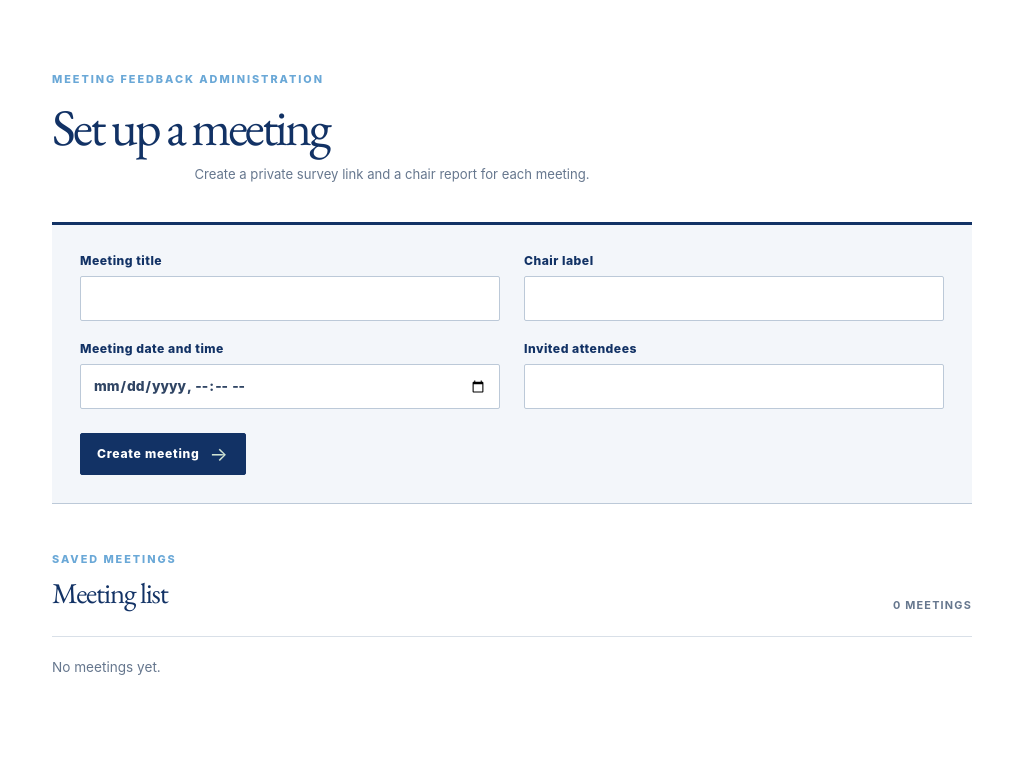
it: AdminPage › loads the meeting list without a login step and creates meeting links
The width and height of the screenshot is (1024, 768).
Expected: the heading "Set up a meeting" is shown, [52,93,329,160]
Expected: the text "No meetings yet." is shown, [52,636,972,675]
Type "Investment Committee" into the field labelled "Meeting title" at [290, 298], box [80,276,500,321]
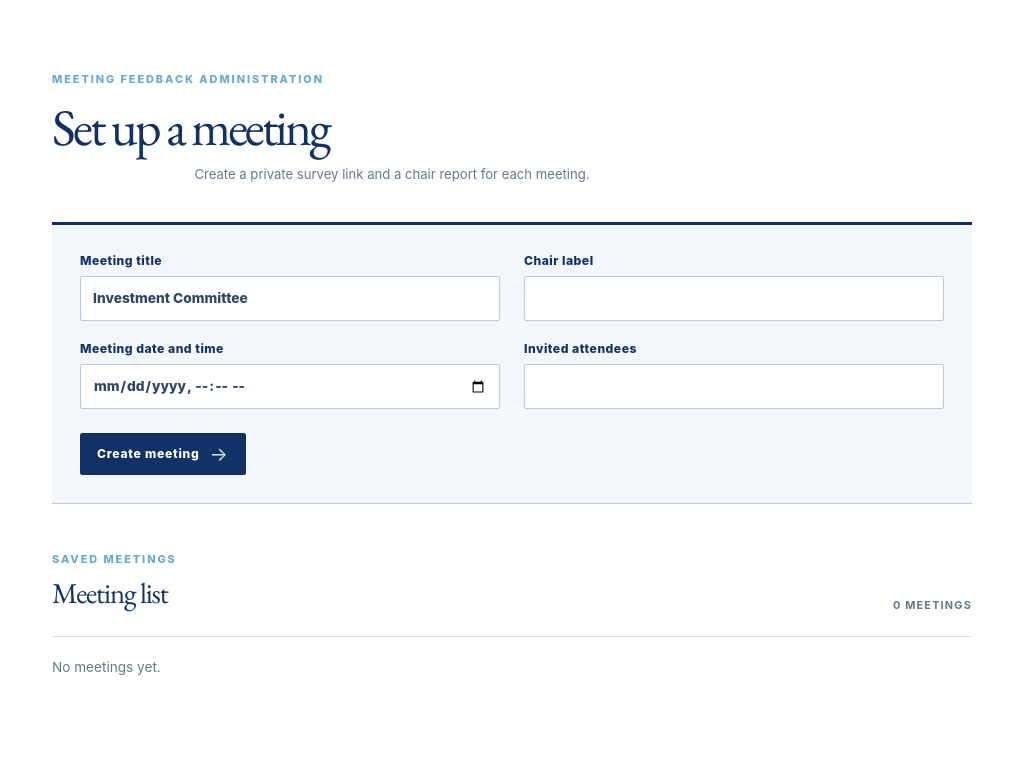
Type "Amelia Tan" into the field labelled "Chair label" at [734, 298], box [524,276,944,321]
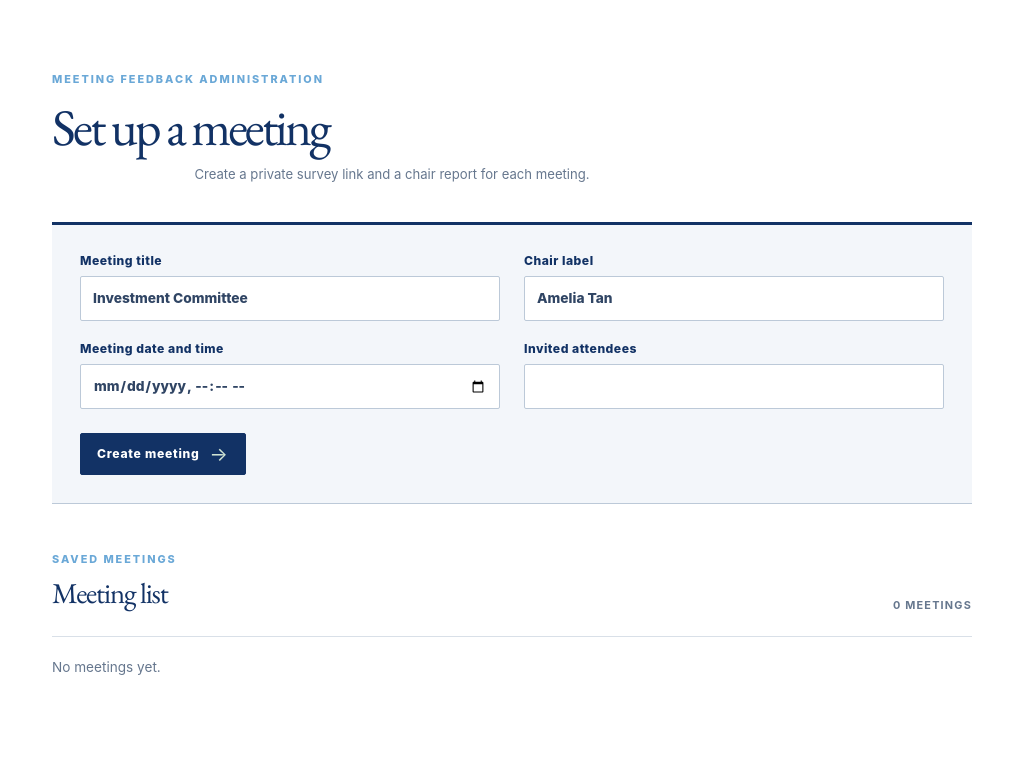
Type "2026-08-12T09:30" into the field labelled "Meeting date and time" at [290, 386], box [80,364,500,409]
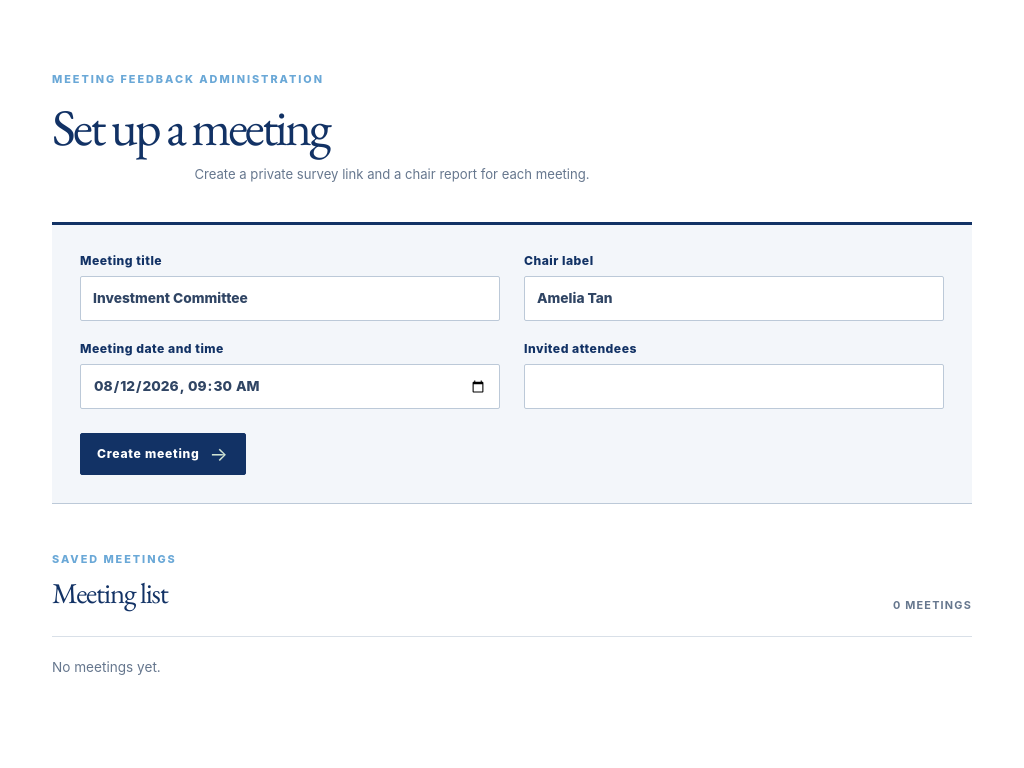
Type "5" into the number field labelled "Invited attendees" at [734, 386], box [524,364,944,409]
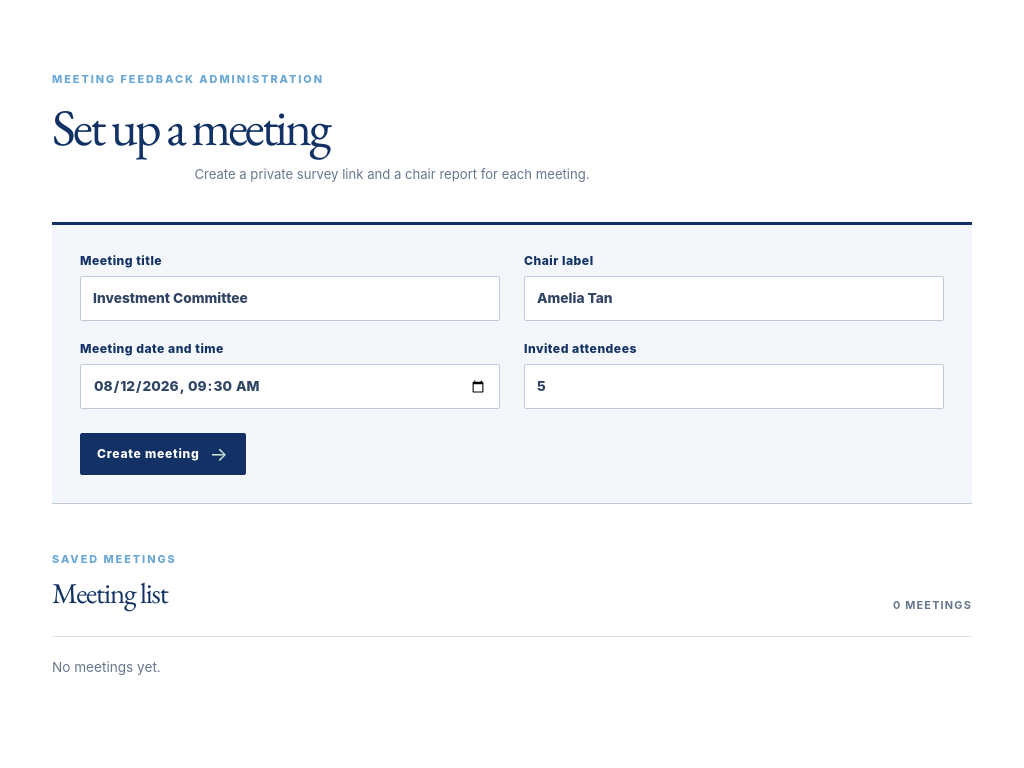
Click the button "Create meeting →" at [163, 454], box [80,433,246,475]
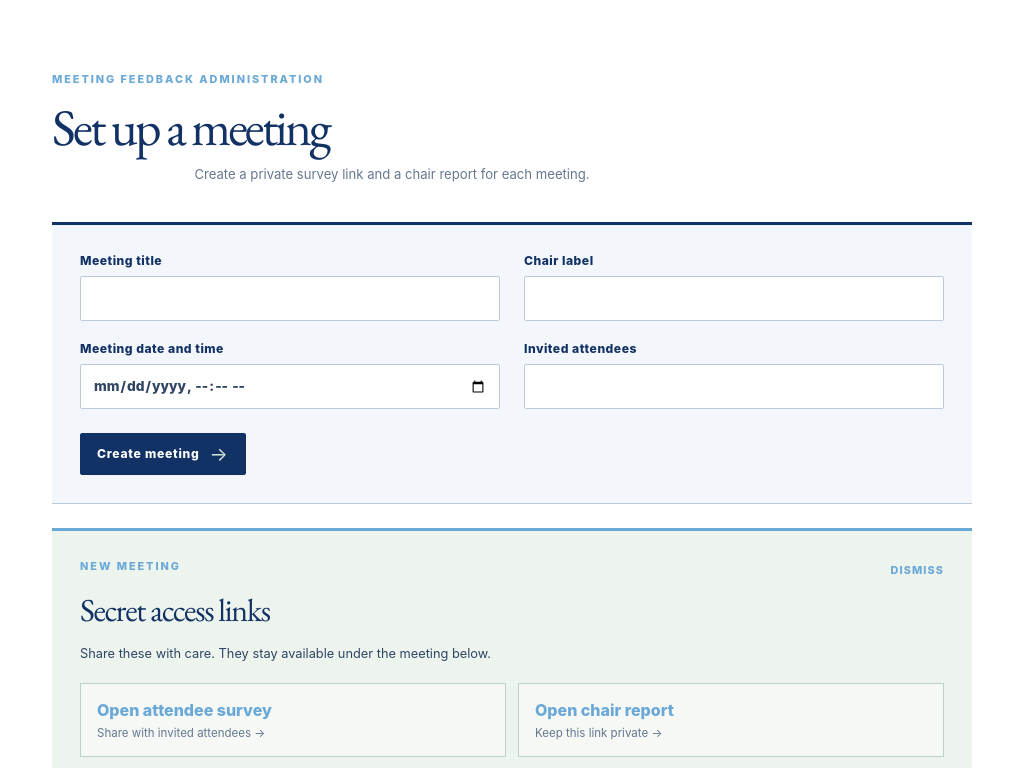
Result: the heading "Secret access links" is shown at [80,589,270,631]
